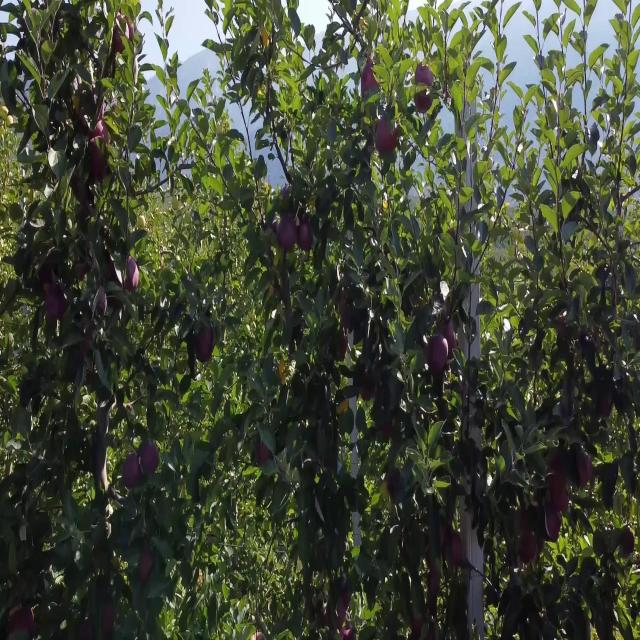apple: (376, 113, 400, 156), (8, 604, 36, 639), (416, 63, 435, 114), (428, 334, 449, 377), (112, 14, 133, 55), (196, 327, 216, 363), (360, 63, 381, 96), (276, 220, 297, 252), (48, 291, 68, 324), (520, 533, 539, 567), (88, 149, 107, 183), (124, 455, 141, 491), (384, 469, 401, 503), (552, 483, 570, 514), (548, 469, 567, 496), (76, 334, 93, 363), (300, 220, 314, 254), (124, 263, 140, 292), (548, 511, 562, 544), (40, 270, 57, 297), (144, 447, 160, 475), (580, 455, 594, 487), (256, 440, 272, 468), (452, 533, 464, 569), (552, 490, 570, 514), (92, 156, 108, 183), (444, 319, 457, 352), (140, 554, 153, 585), (92, 120, 109, 142), (376, 419, 393, 441), (360, 383, 376, 405), (340, 305, 353, 332), (104, 604, 116, 633), (336, 334, 348, 363), (624, 533, 636, 556), (336, 398, 348, 420), (96, 291, 108, 313), (412, 618, 424, 638), (104, 263, 116, 283), (76, 263, 87, 283), (440, 526, 448, 553), (280, 191, 291, 210), (424, 341, 432, 366), (604, 398, 612, 420), (280, 362, 288, 384), (340, 604, 348, 626), (84, 618, 92, 638), (324, 611, 332, 626), (268, 284, 276, 299)
